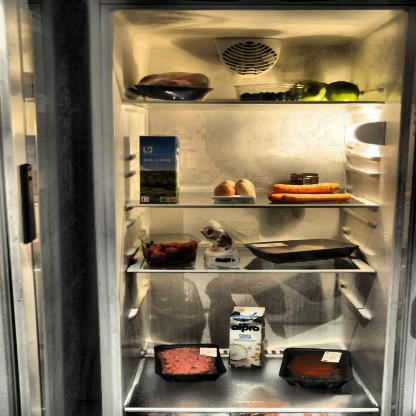apple: (292, 78, 360, 102)
beef: (282, 349, 347, 382)
blueberries: (238, 89, 302, 101)
carrot: (266, 183, 352, 202)
chicken: (139, 72, 213, 102), (256, 242, 340, 262)
corn: (291, 173, 318, 192)
eggs: (212, 179, 258, 200)
ground_beef: (156, 344, 222, 380)
milk: (139, 136, 179, 205), (229, 306, 267, 369)
strawberries: (145, 233, 196, 264)
